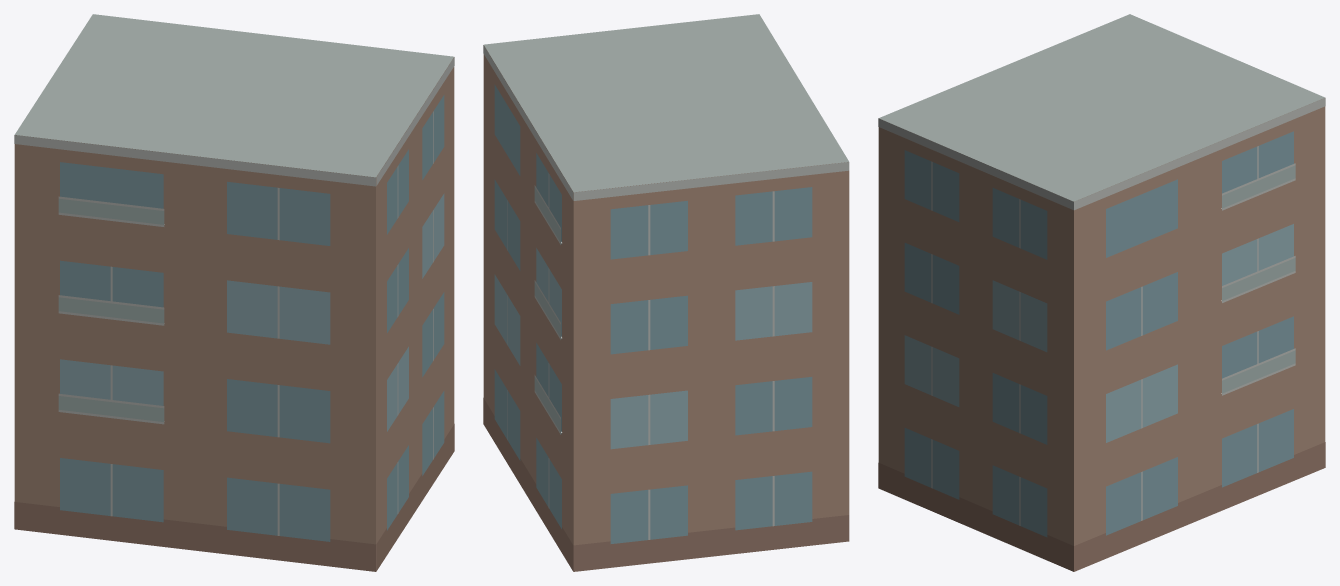
The model's file is survey-upis-32691227.glb.
The picture shows the model from 3 angles, left to right: view 1: azimuth 30°, elevation 25°; view 2: azimuth 150°, elevation 25°; view 3: azimuth 270°, elevation 25°; orthographic projection. The views are drawn at different scales.
Parts seen in each view (by area): view 1: survey-upis-32691227.tmp; view 2: survey-upis-32691227.tmp; view 3: survey-upis-32691227.tmp.
Part boxes in pixels (x1,y1,x2,y2): survey-upis-32691227.tmp: (14,14,454,571); survey-upis-32691227.tmp: (483,14,849,571); survey-upis-32691227.tmp: (878,14,1325,571).
Bounding box in the file's own units: 11.43 × 10.5 × 11.5.
